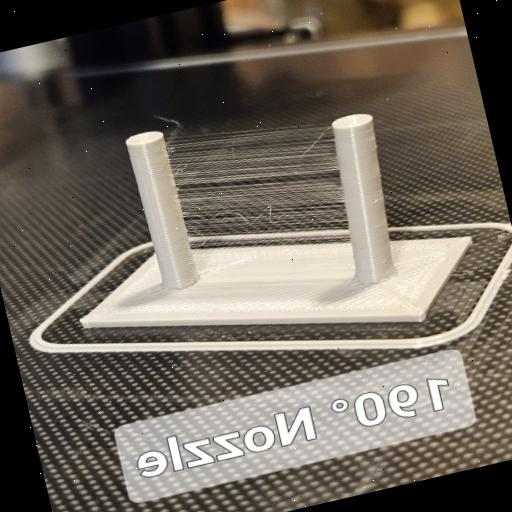stringing: (168, 128, 343, 233)
